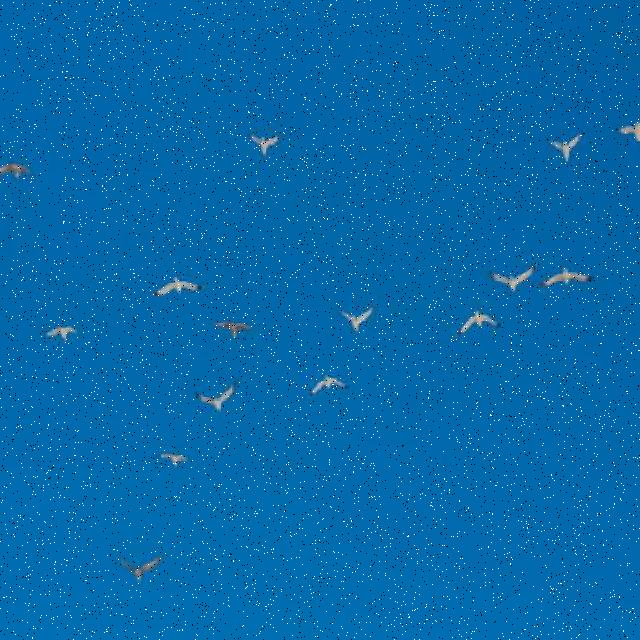bird: (150, 272, 204, 303), (194, 378, 240, 414), (120, 550, 162, 587), (488, 262, 538, 293), (336, 302, 379, 336), (540, 264, 594, 290), (545, 128, 584, 164), (456, 309, 501, 340), (306, 372, 352, 399), (244, 129, 282, 160), (213, 316, 252, 342), (0, 157, 35, 185), (40, 322, 80, 344), (156, 448, 190, 470), (616, 115, 638, 143)
